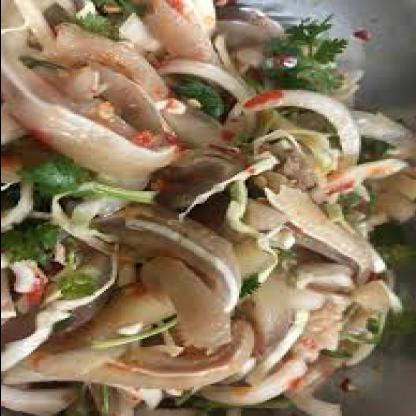Yum: (2, 3, 415, 415)
